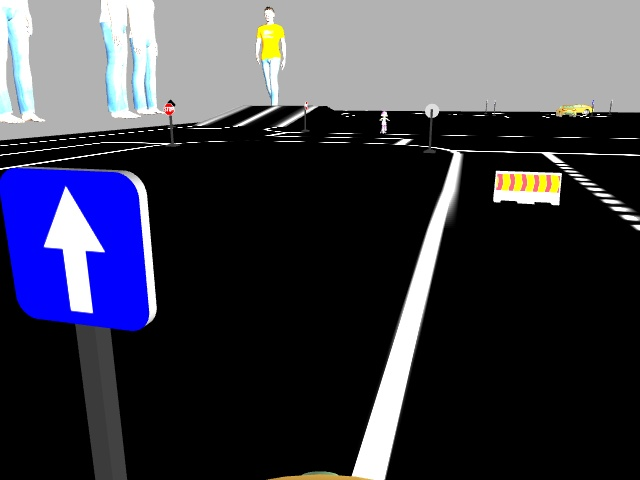ClosedRoadStand: (495, 170, 559, 205)
OneWay: (0, 170, 157, 329)
